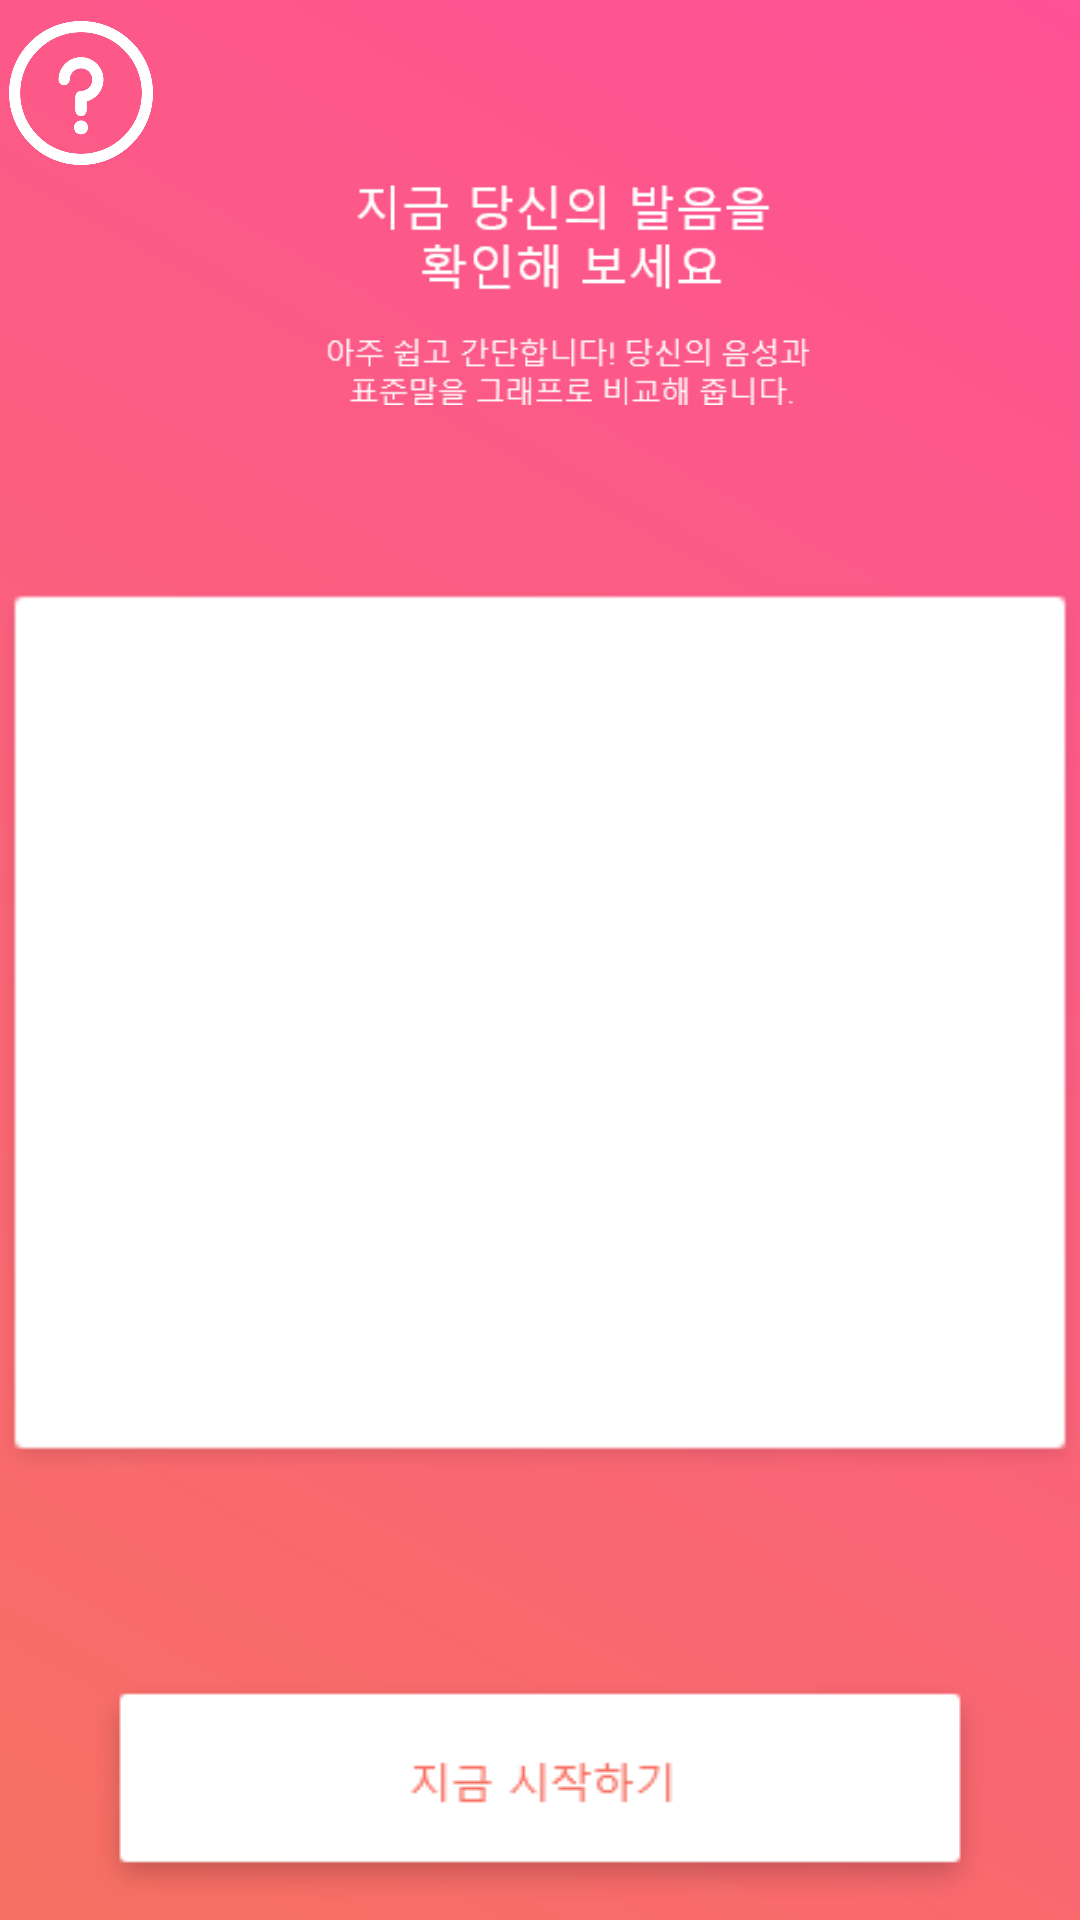

Named icons in this screenshot (1080px×1920px) and their bounding boxes, (x1, y1, x2, y2):
question: (9, 21, 153, 165)
